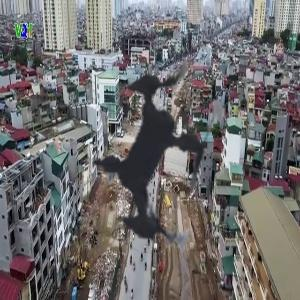drone: (11, 6, 299, 294)
